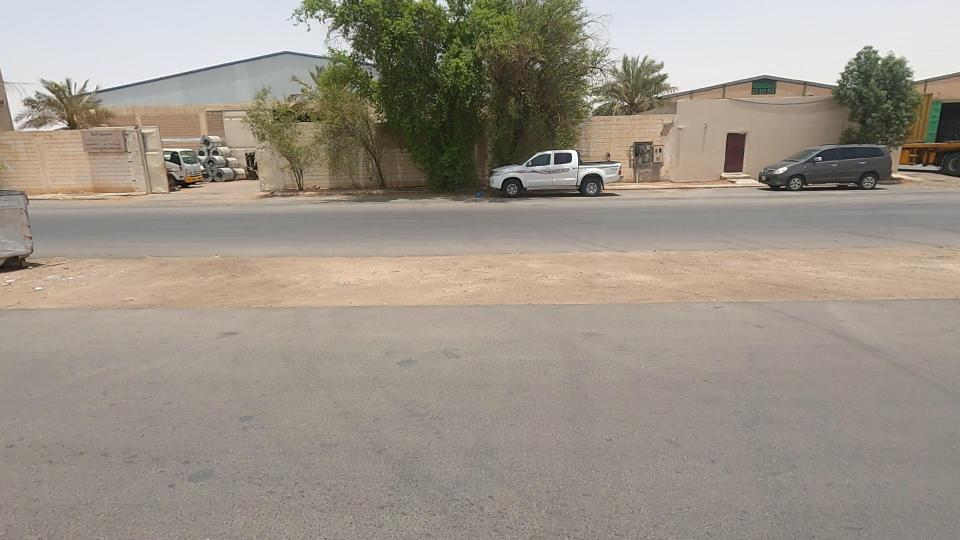CLUTTER_SIDEWALK: (247, 203, 746, 346), (0, 207, 400, 344), (562, 219, 960, 338)
